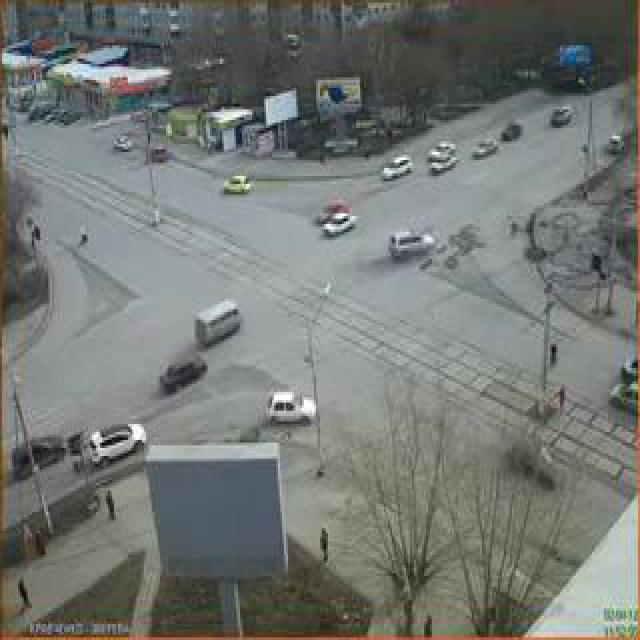road accidents: (209, 123, 585, 505)
